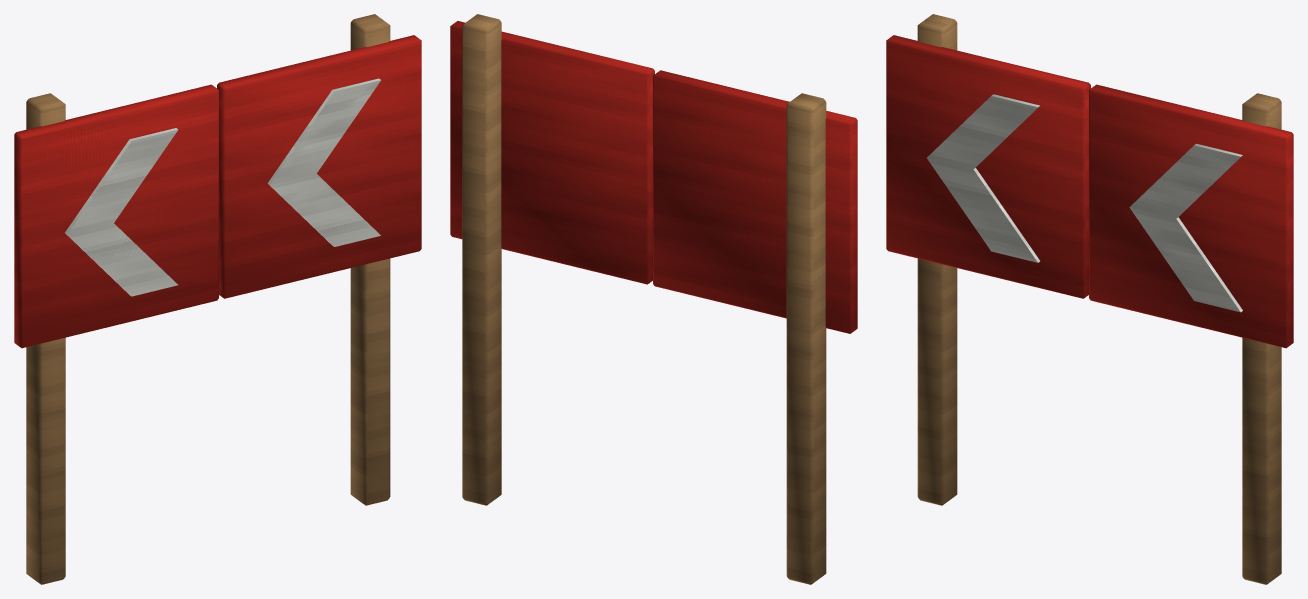
The model's file is placa_chevron_esq.glb.
The picture shows the model from 3 angles, left to right: view 1: azimuth 30°, elevation 25°; view 2: azimuth 150°, elevation 25°; view 3: azimuth 330°, elevation 25°; orthographic projection.
Parts seen in each view (by area): view 1: Inteiro, Peca_02, Peca_03; view 2: Inteiro, Peca_02, Peca_03; view 3: Inteiro, Peca_03, Peca_02.
Part boxes in pixels (x1,y1,x2,y2): Inteiro: [14, 14, 421, 584]; Peca_02: [14, 84, 218, 347]; Peca_03: [217, 35, 421, 298]; Inteiro: [450, 14, 857, 584]; Peca_02: [653, 70, 857, 333]; Peca_03: [450, 21, 654, 284]; Inteiro: [886, 14, 1293, 584]; Peca_03: [1089, 84, 1293, 348]; Peca_02: [886, 35, 1090, 298].
Bounding box in the file's own units: 1.19 × 1.35 × 0.122.
Materials: 1 (1 with a texture image).
